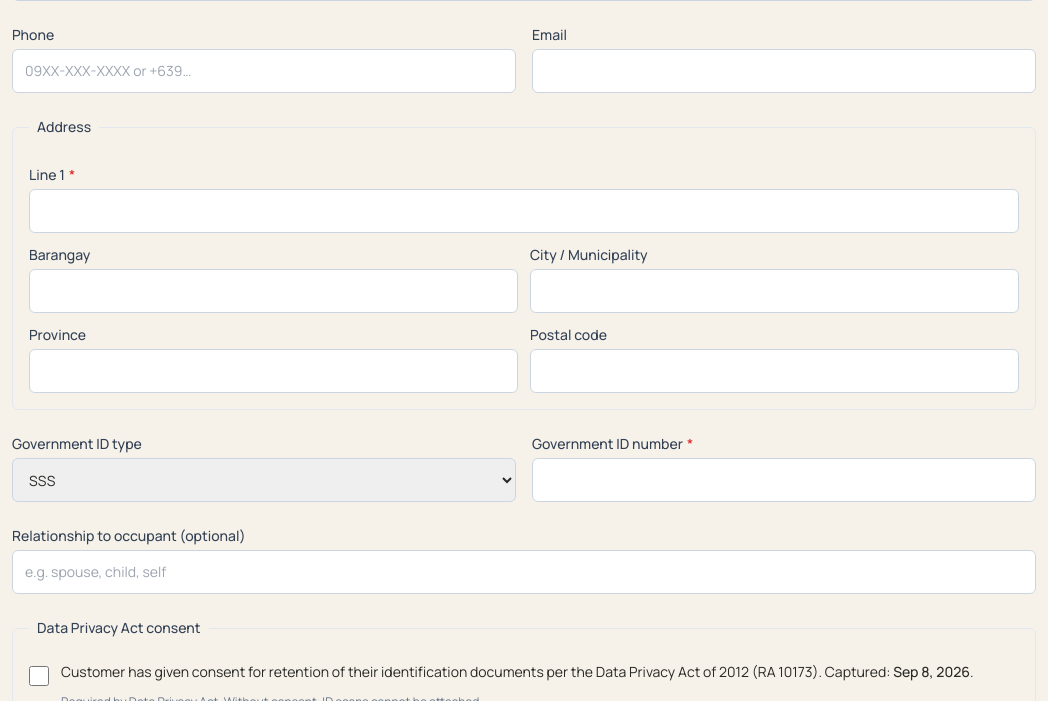
Scenario: CustomerForm — AC3 render + AC4 consent gate › disables submit until the consent checkbox is checked
Click the checkbox. click: click(39, 676)
box: [29,666,49,686]
(page scrolled)
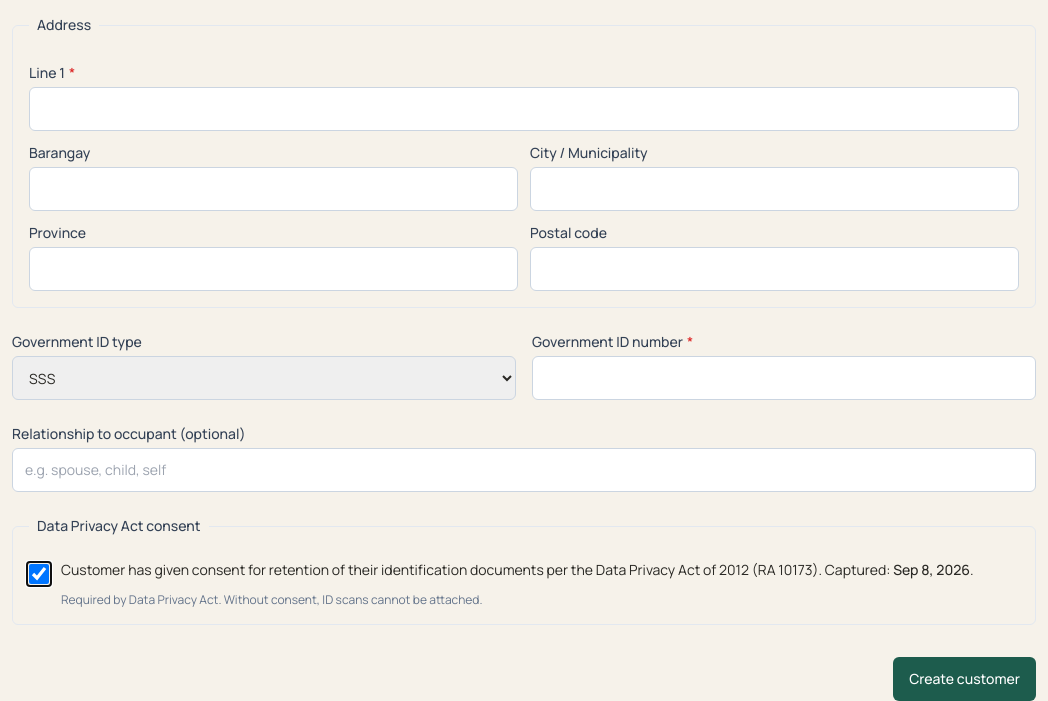
Now the button "Create customer" is enabled, box [893,657,1036,700]
